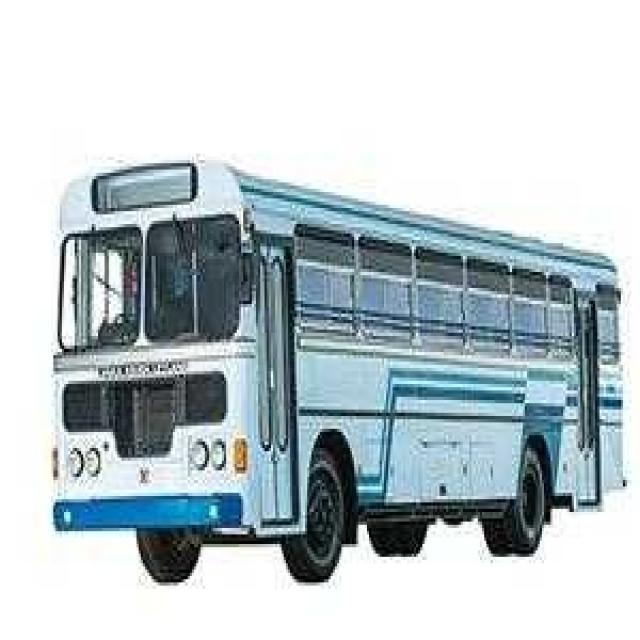Bus: (43, 146, 634, 589)
